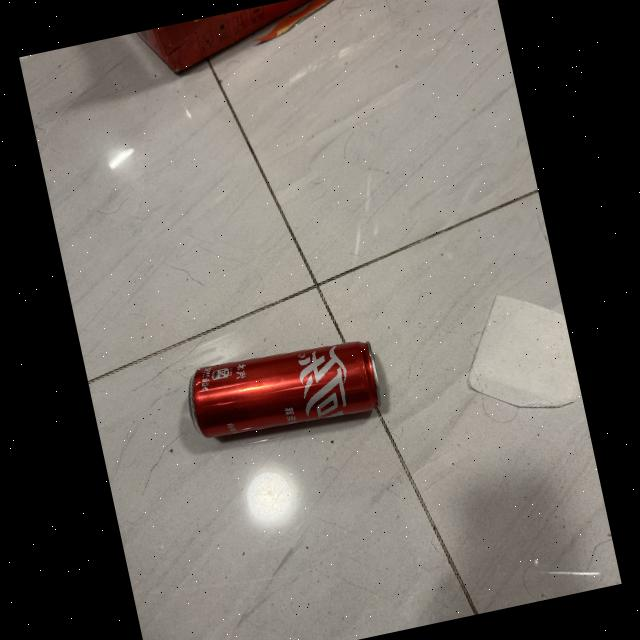Cola: (173, 323, 394, 463)
